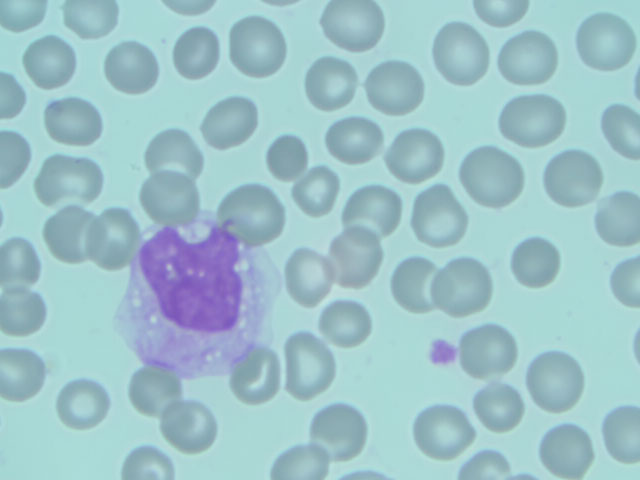Platelets: (430, 335, 461, 370)
RBC: (227, 16, 288, 76), (431, 25, 495, 82), (462, 148, 521, 209), (324, 229, 382, 286), (343, 183, 401, 240), (409, 188, 468, 243), (527, 352, 584, 407), (322, 1, 383, 52), (368, 60, 424, 112), (459, 324, 515, 376), (577, 14, 632, 66), (166, 26, 221, 78), (198, 95, 253, 147), (145, 128, 200, 180), (39, 157, 94, 209), (42, 92, 97, 144), (107, 43, 162, 95), (23, 33, 78, 85), (385, 129, 440, 181), (501, 31, 556, 83), (508, 94, 563, 146), (302, 55, 357, 107), (436, 258, 491, 310), (385, 258, 440, 310), (325, 113, 380, 165), (508, 236, 563, 288), (545, 152, 600, 204), (279, 337, 334, 389), (319, 295, 374, 347), (540, 426, 595, 478), (414, 408, 469, 460), (471, 379, 526, 431), (126, 357, 181, 409), (85, 212, 140, 264), (40, 207, 95, 259), (228, 184, 283, 236), (54, 378, 109, 430), (141, 174, 196, 226), (1, 238, 55, 290), (1, 289, 55, 341), (1, 349, 55, 401), (164, 400, 213, 452), (262, 128, 312, 177), (291, 168, 340, 217), (316, 406, 365, 455), (234, 351, 283, 400), (284, 253, 333, 302), (595, 192, 640, 243), (120, 441, 170, 480)
WBC: (118, 218, 273, 378)
